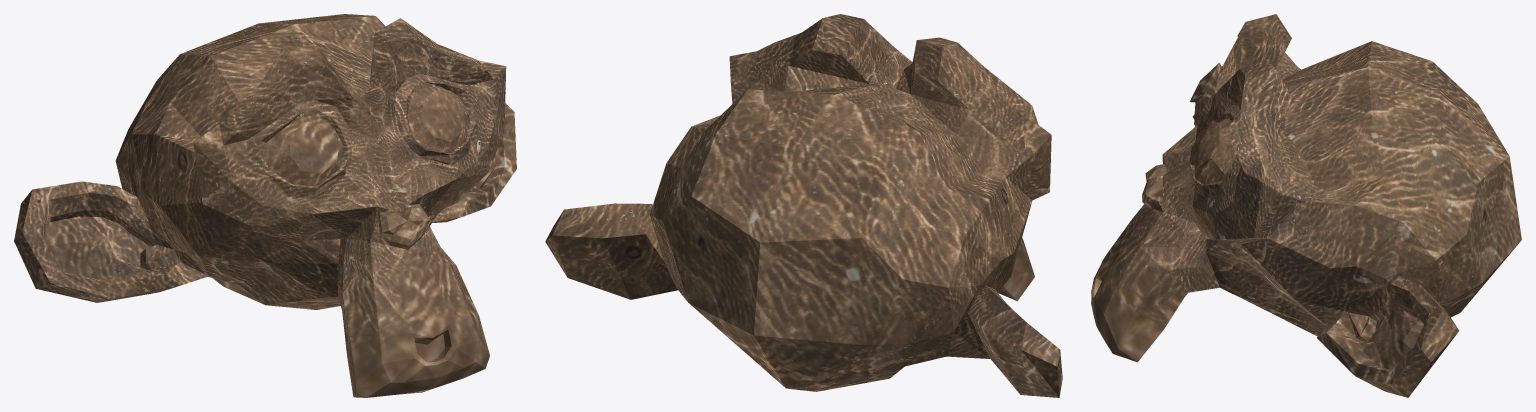
Rendered from monkey-material-flat.dae.
3 renders of one model, left to right at view 1: azimuth 30°, elevation 25°; view 2: azimuth 150°, elevation 25°; view 3: azimuth 270°, elevation 25°, orthographic. The views are drawn at different scales.
Parts seen in each view (by area): view 1: Suzanne; view 2: Suzanne; view 3: Suzanne.
Boxes of the visible parts, <box> form: Suzanne: <box>14,14,516,397</box>; Suzanne: <box>545,14,1062,397</box>; Suzanne: <box>1091,14,1521,397</box>.
Bounding box in the file's own units: 2.73 × 2.09 × 1.58.
Materials: 1 (1 with a texture image).
